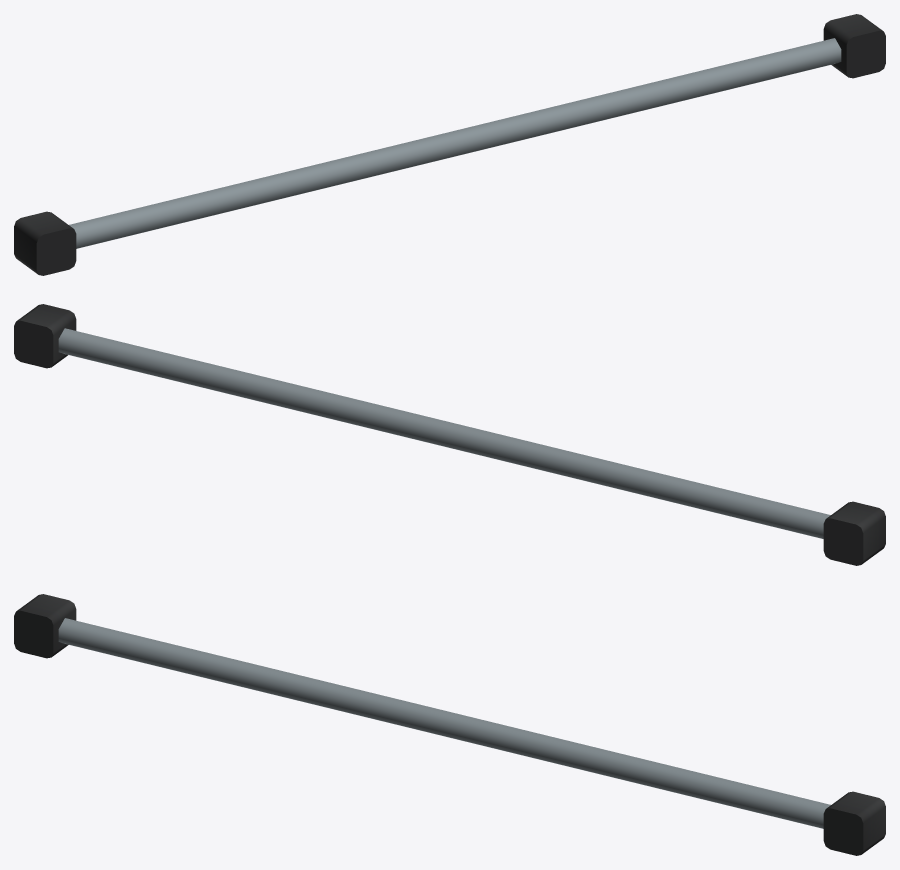
The model's file is Claw_Mechanism_01.fbx.
3 renders of one model, top to bottom at view 1: azimuth 30°, elevation 25°; view 2: azimuth 150°, elevation 25°; view 3: azimuth 330°, elevation 25°, orthographic.
Parts seen in each view (by area): view 1: Claw_Mechanism_01; view 2: Claw_Mechanism_01; view 3: Claw_Mechanism_01.
Part boxes in pixels (x1=…): Claw_Mechanism_01: x1=14, y1=14, x2=885, y2=275; Claw_Mechanism_01: x1=14, y1=304, x2=885, y2=565; Claw_Mechanism_01: x1=14, y1=594, x2=885, y2=855.
Size of the model in its own units: 99.1 by 4.61 by 4.61.
